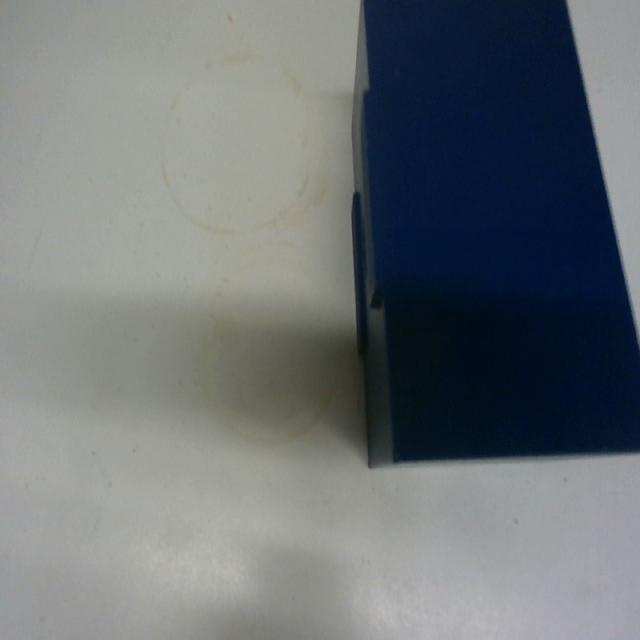Blue Cuboid: (347, 0, 639, 469)
